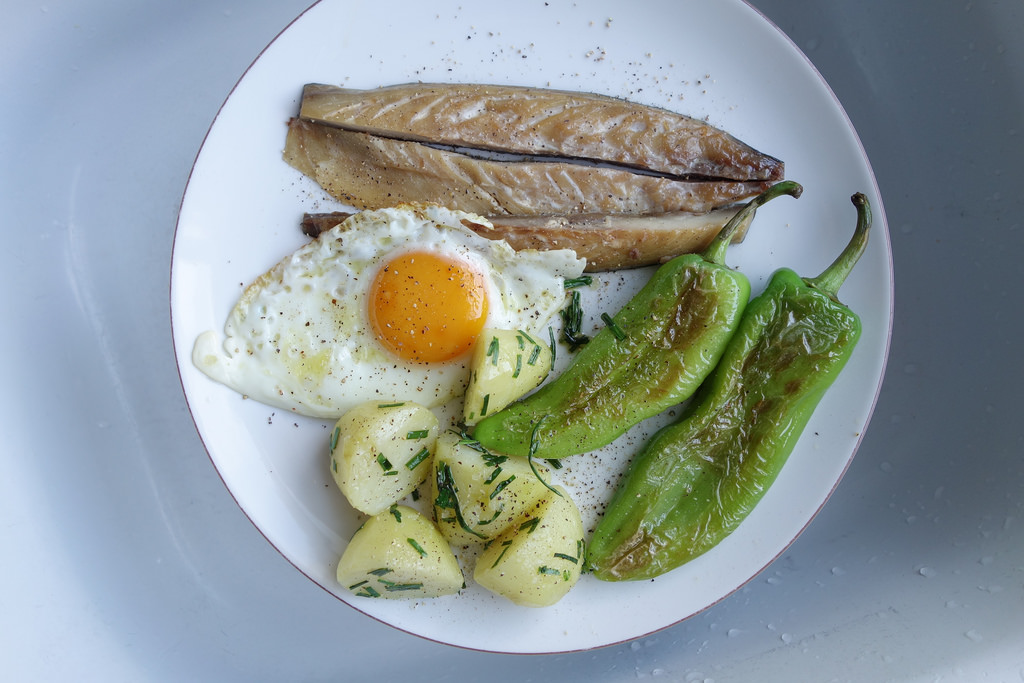fried egg: (232, 225, 547, 392), (347, 412, 583, 600)
